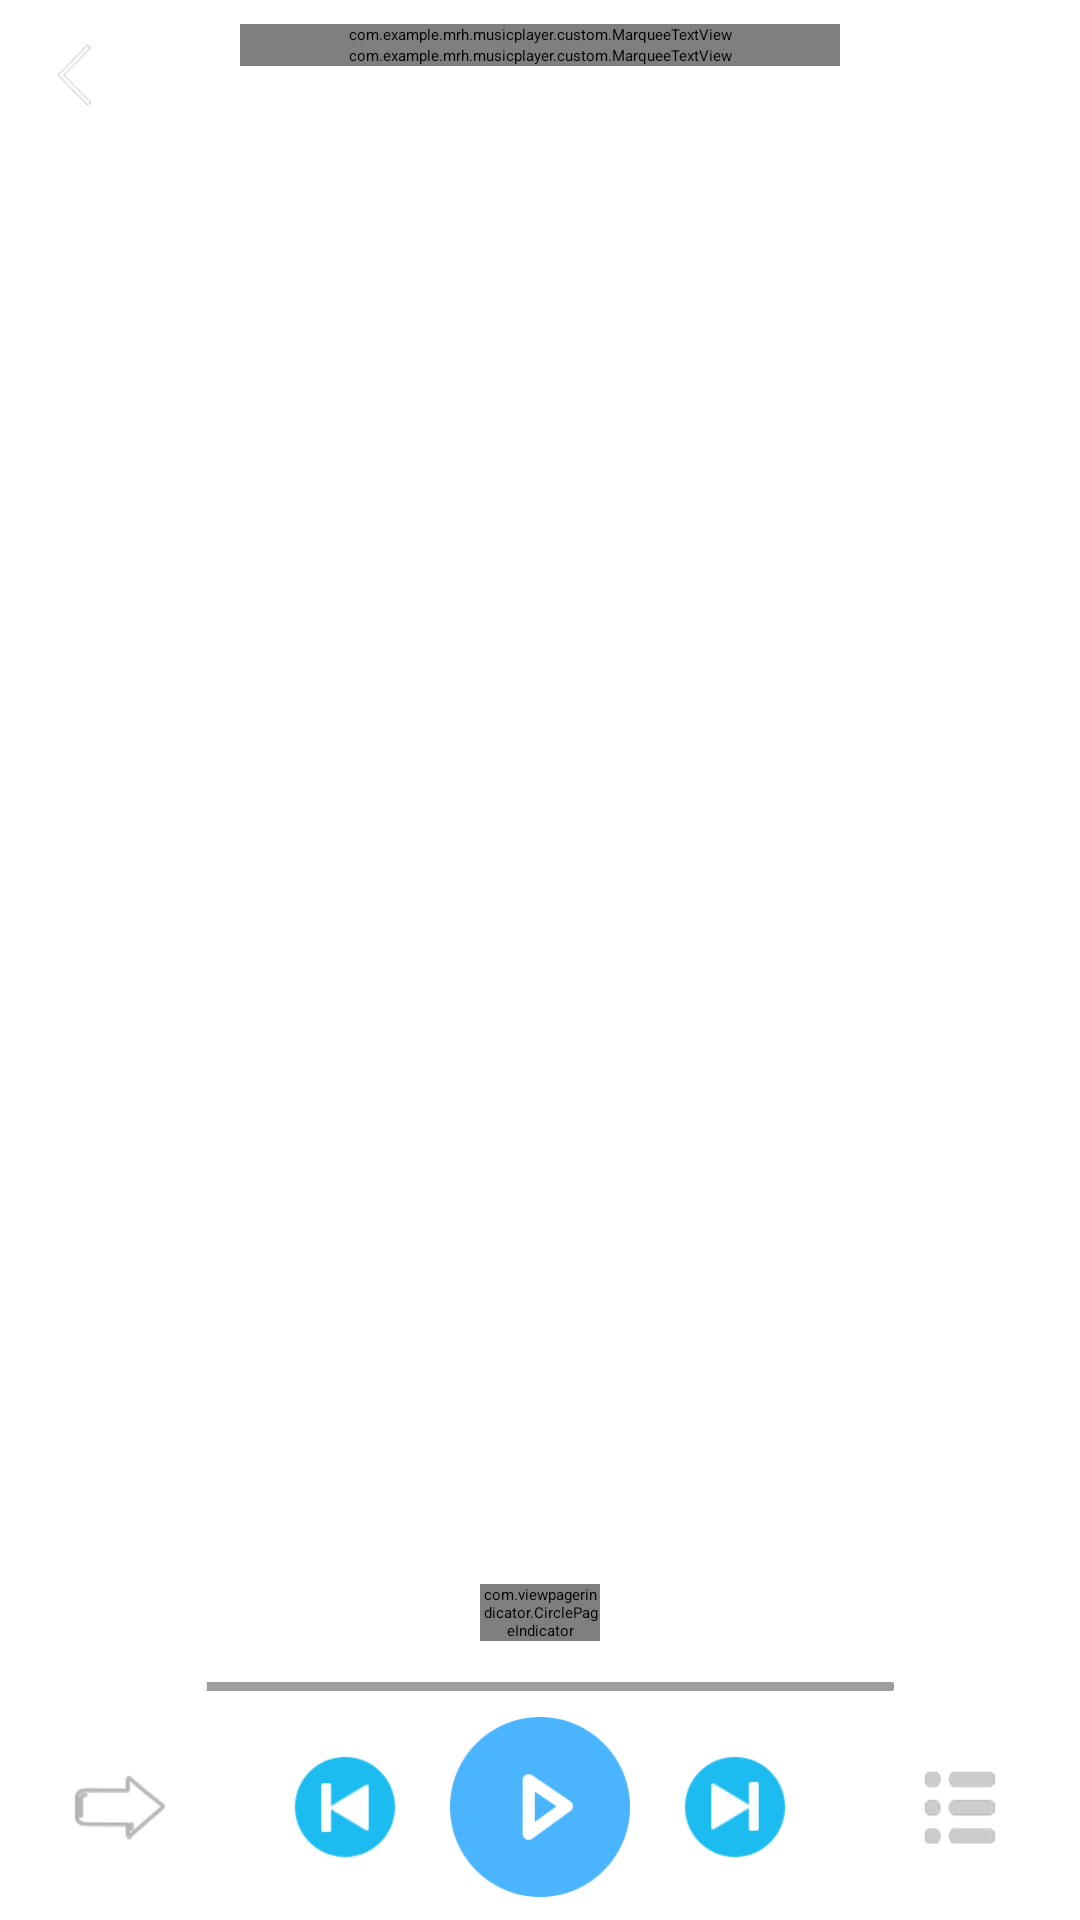

Icon bounding boxes for this 1080*1920 phone screenshot, format (x1, y1, x2, y2):
back: (58, 45, 91, 105)
poplist: (925, 1772, 995, 1844)
